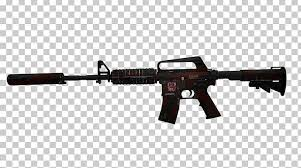gun: (5, 55, 288, 125)
